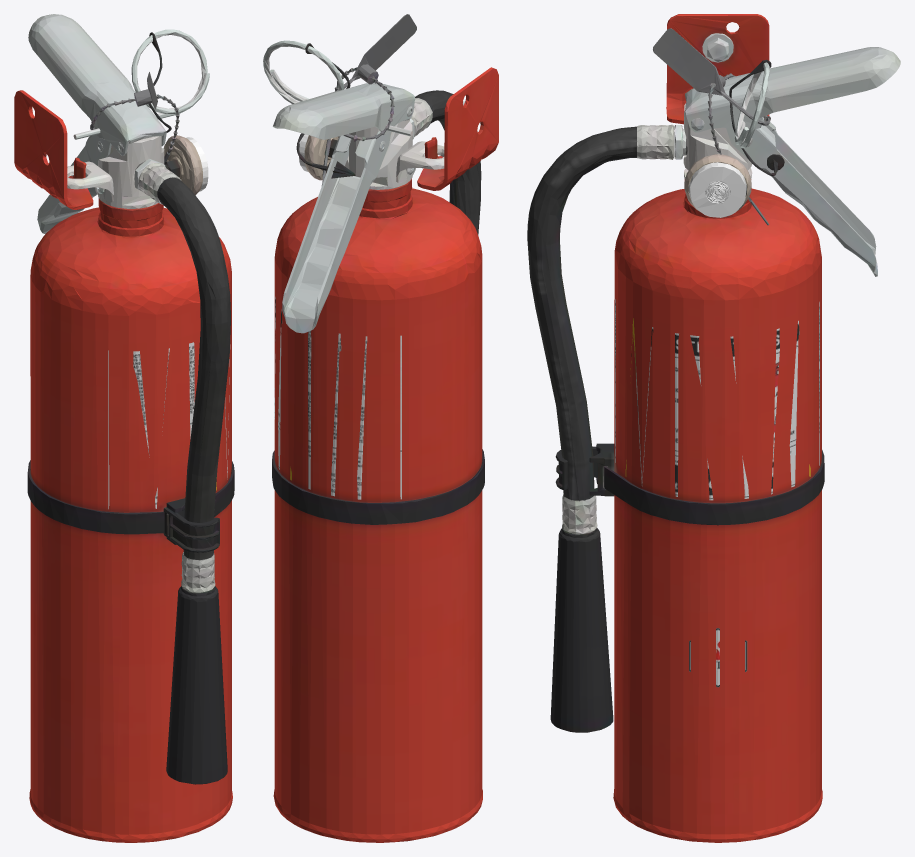
Rendered from hardware_extinguisher.glb.
The picture shows the model from 3 angles, left to right: view 1: azimuth 30°, elevation 25°; view 2: azimuth 150°, elevation 25°; view 3: azimuth 270°, elevation 25°; orthographic projection. The views are drawn at different scales.
Visible parts, largest first — view 1: hardware_extinguisher_0, hardware_extinguisher_1; view 2: hardware_extinguisher_0, hardware_extinguisher_1; view 3: hardware_extinguisher_0, hardware_extinguisher_1, hardware_extinguisher_2.
Part boxes in pixels (bbox=[...]): hardware_extinguisher_0: bbox=[14, 14, 234, 842]; hardware_extinguisher_1: bbox=[108, 342, 230, 509]; hardware_extinguisher_0: bbox=[263, 14, 498, 842]; hardware_extinguisher_1: bbox=[274, 297, 401, 499]; hardware_extinguisher_0: bbox=[527, 14, 900, 842]; hardware_extinguisher_1: bbox=[615, 299, 819, 687]; hardware_extinguisher_2: bbox=[689, 162, 746, 217].
Size of the model in its own units: 0.1086 by 0.4173 by 0.1838.
Materials: 3 (2 with a texture image).
